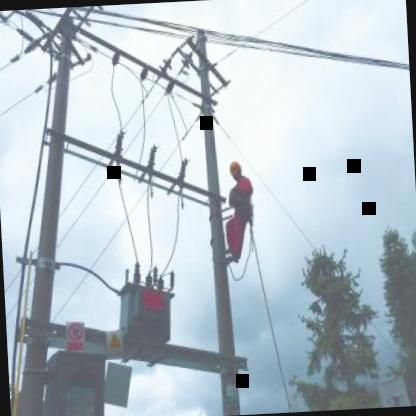helmet: (226, 156, 244, 183)
